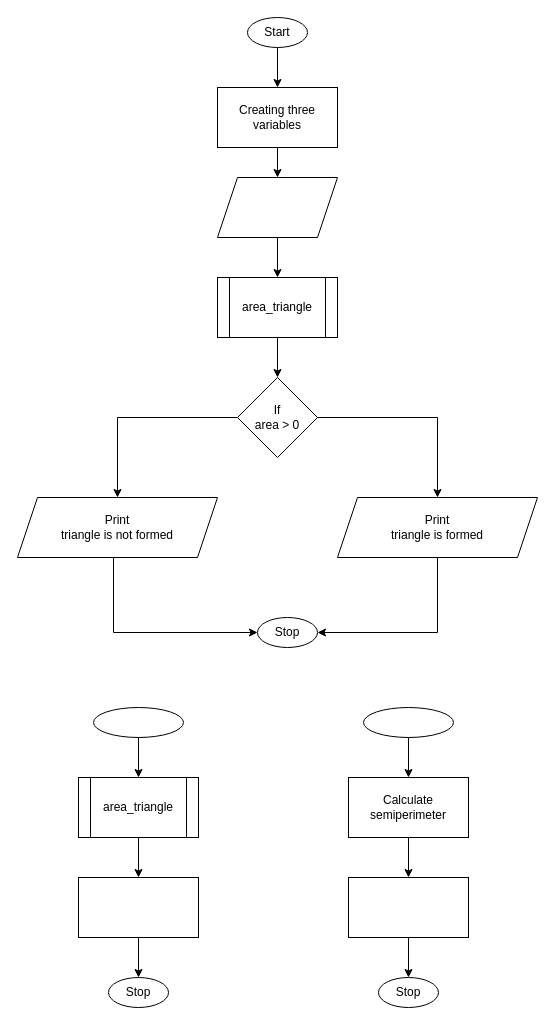
Image size: 555x1025. Some labels were removed from this diagram. Here are the shapes that lost their labels. From the top down, the centre of each, then its label:
At [277,207]: "Scan three sides".
At [138,722]: "Area".
At [408,722]: "Semiperimeter".
At [138,907]: "Return area using semiperimeter".
At [408,907]: "Return semiperimeter".
